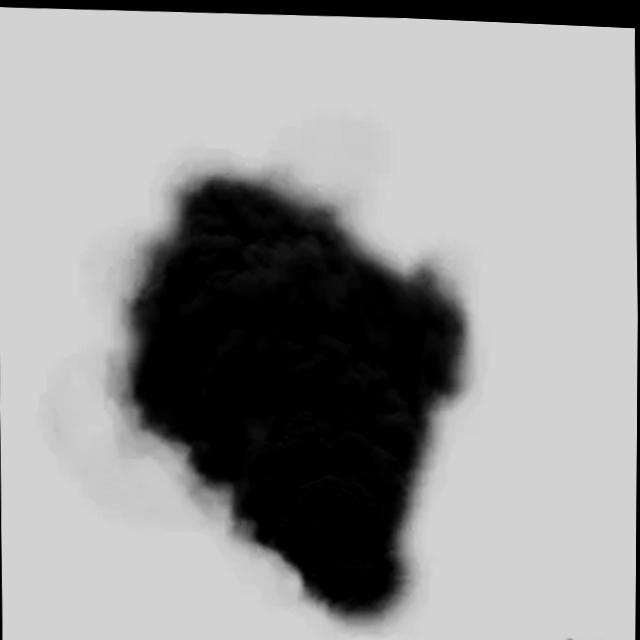no_helmet: (124, 156, 473, 617)
